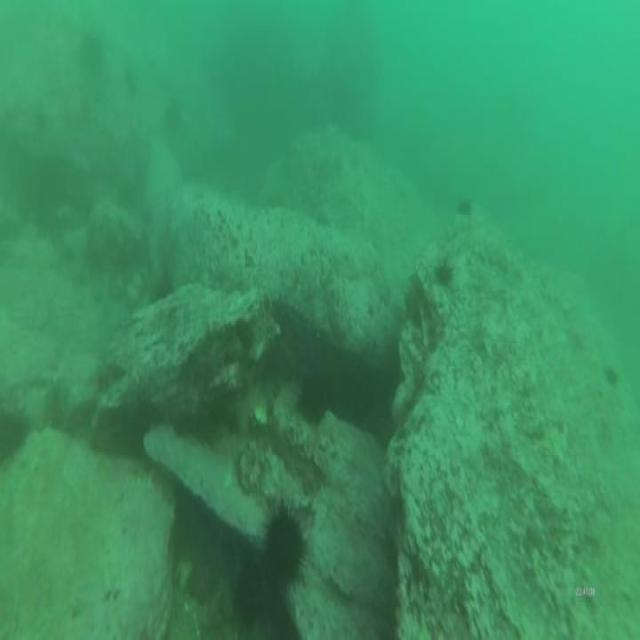echinus: (260, 494, 308, 592), (296, 367, 335, 428), (230, 566, 262, 637), (125, 400, 160, 458), (181, 554, 219, 606), (0, 403, 30, 466), (76, 28, 106, 78), (232, 311, 258, 357), (430, 252, 457, 292), (452, 196, 476, 224), (601, 357, 619, 394)
